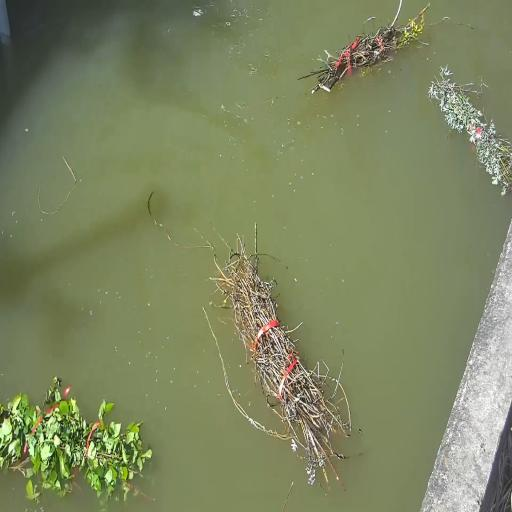twig: (210, 237, 350, 484), (0, 377, 152, 499), (307, 0, 428, 93), (427, 67, 512, 194)
